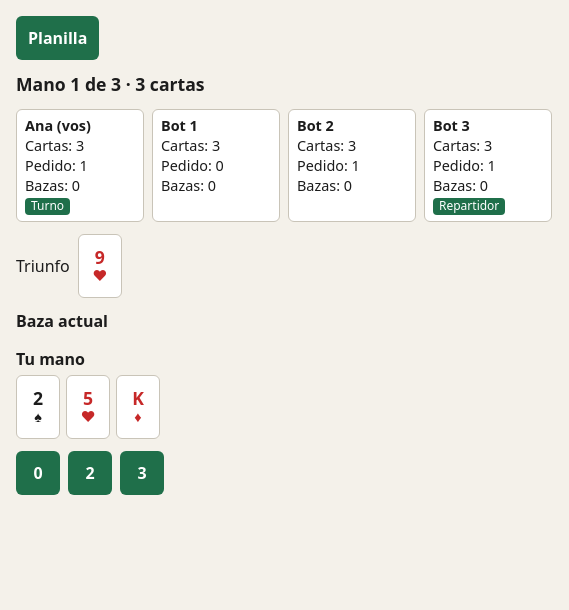
Scenario: retries (VC-925, VC-926, FR-917) › VC-926: four rejects send at 0, 1, 3, 7 s with identical bodies, then Reintentar
This screenshot has width=569, height=610.
Click the button "2" at (90,473), box top-left (68, 451), bottom-right (112, 495)
Wait 7000 ms
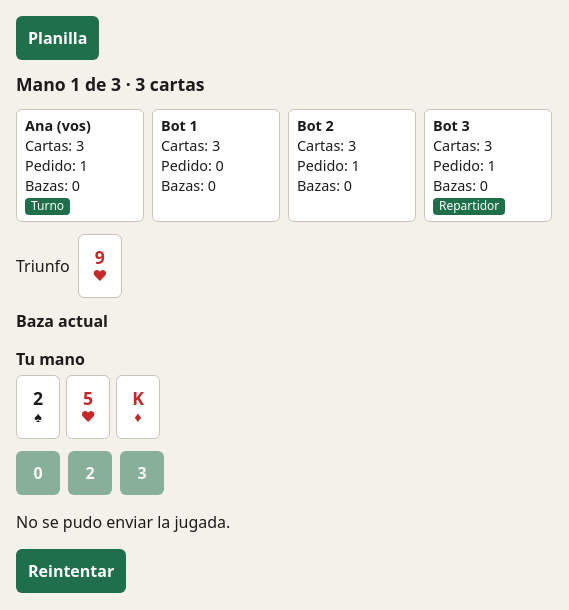
Result: the text "No se pudo enviar la jugada." is shown at top-left (16, 511), bottom-right (230, 533)
Click the button "Reintentar" at (71,571), box top-left (16, 549), bottom-right (126, 593)
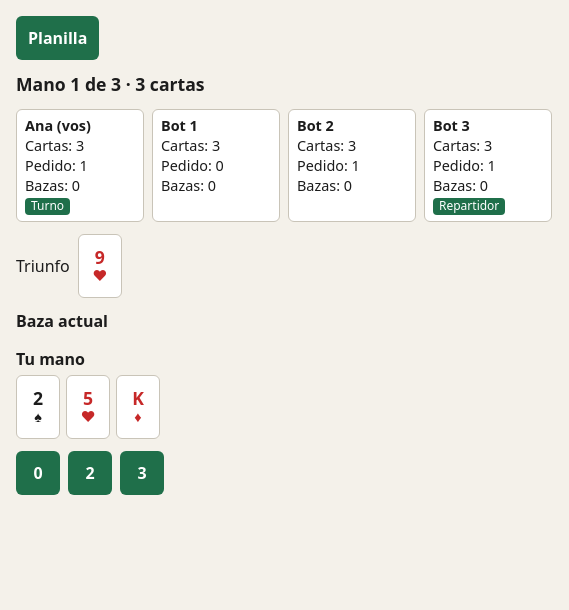
Result: the text "No se pudo enviar la jugada." is gone
